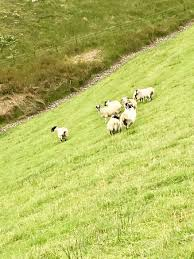sheep: (102, 115, 126, 137), (121, 104, 138, 129), (50, 122, 69, 144), (92, 101, 115, 119), (133, 88, 159, 103), (102, 101, 121, 114)
